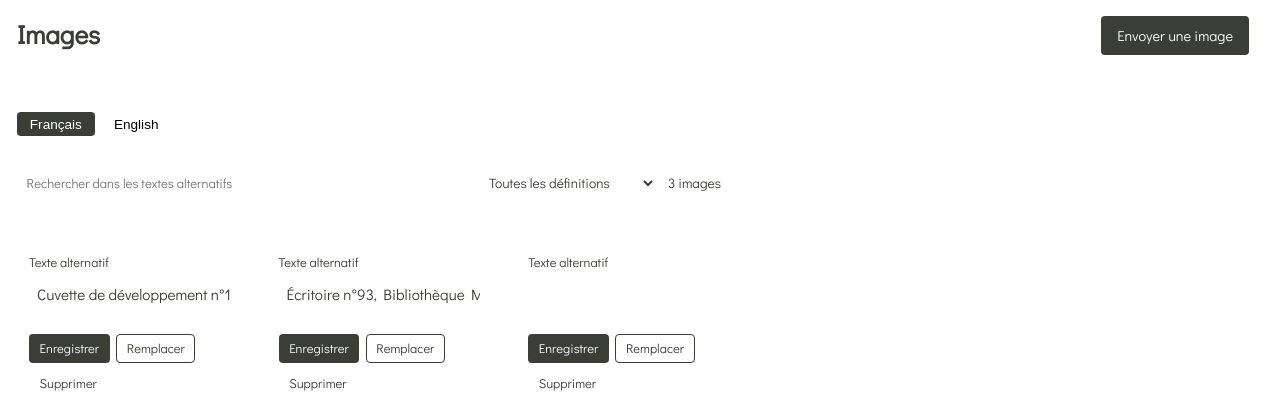
it: MediaLibrary search › says so when nothing matches
Type "zzz" into the search field labelled "Rechercher dans les textes alternatifs" at (241, 184), box [17,167,465,200]
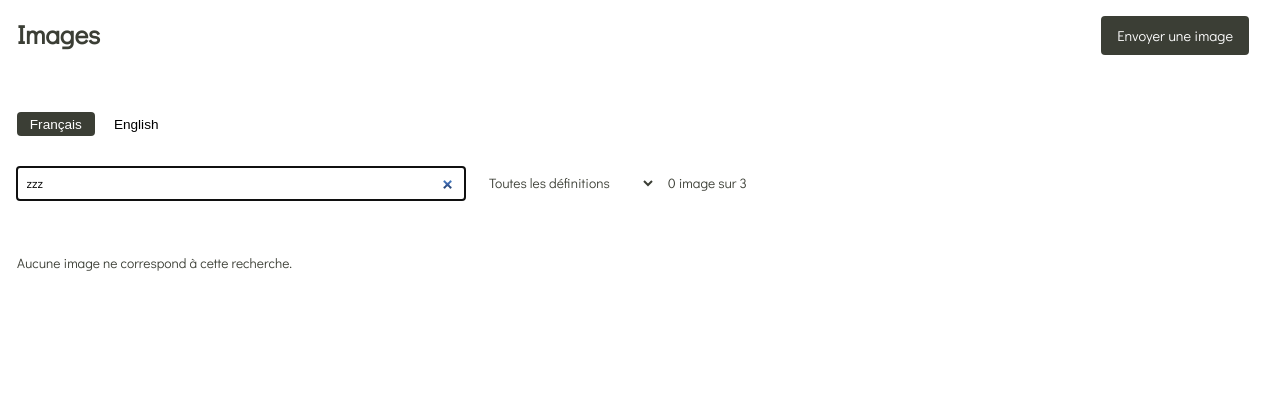
Expected: the text "Aucune image ne correspond à cette recherche." is shown, [17,254,292,272]
Expected: the text "0 image sur 3" is shown, [668,173,747,195]
